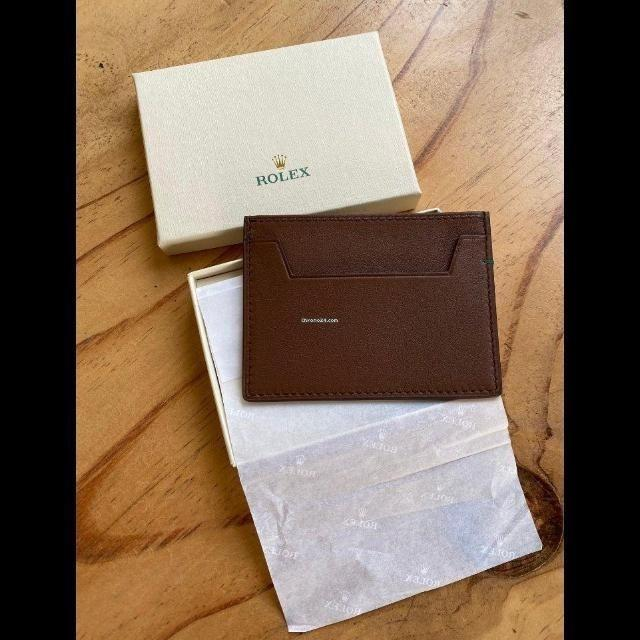Wallet: (242, 210, 500, 400)
